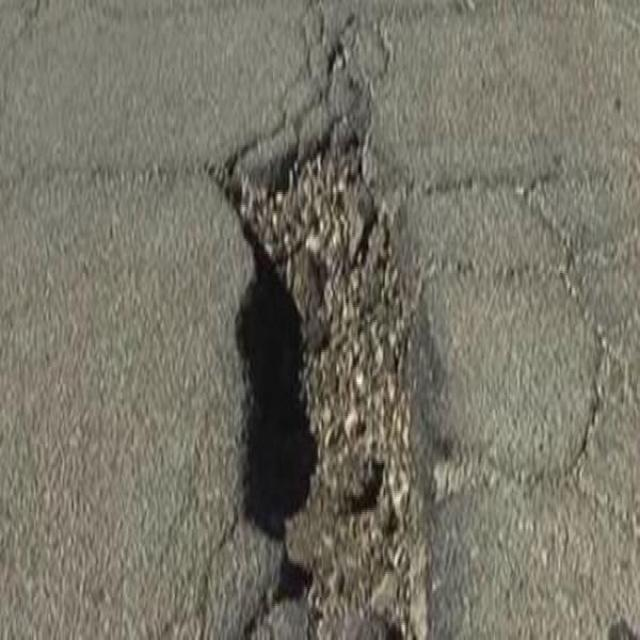Pothole: (204, 103, 439, 639)
